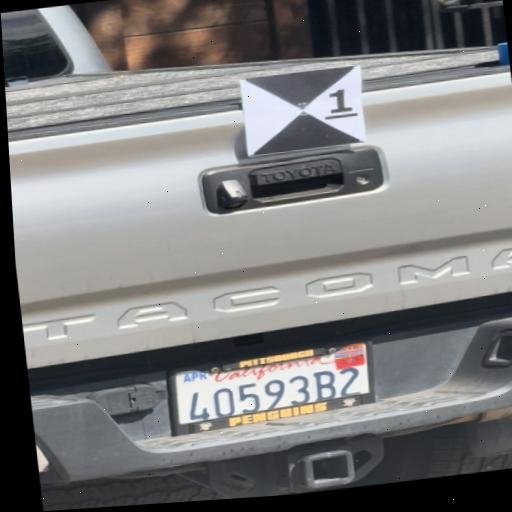target1: (241, 65, 364, 154)
